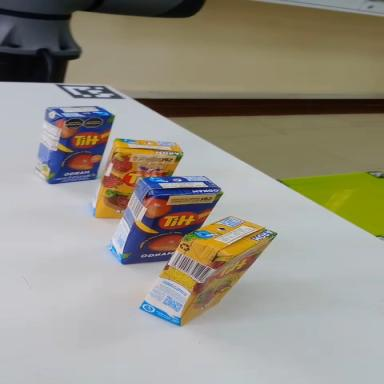HIT-MANGO: (97, 148, 225, 288), (26, 93, 116, 197)
HIT-MORA: (129, 189, 277, 346), (77, 117, 186, 240)
cara_F: (112, 162, 223, 288), (73, 122, 188, 231), (176, 223, 276, 335), (45, 102, 115, 196)
